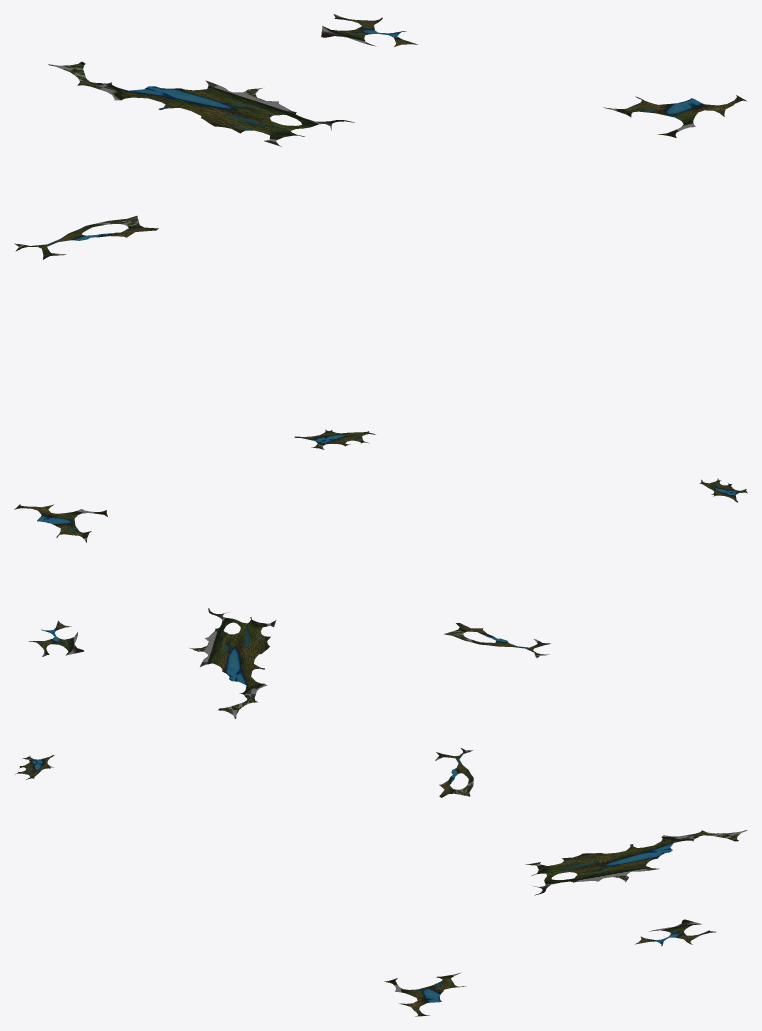
Rendered from Swamp_dizuo03water.FBX.
3 views of the same model, one above another, from view 1: azimuth 30°, elevation 25°; view 2: azimuth 150°, elevation 25°; view 3: azimuth 270°, elevation 25° (orthographic). The views are drawn at different scales.
Visible parts, largest first — view 1: Object001; view 2: Object001; view 3: Object001.
Boxes of the visible parts, <box> form: Object001: <box>14,14,746,449</box>; Object001: <box>14,478,747,718</box>; Object001: <box>15,748,747,1016</box>.
Size of the model in its own units: 443 by 0.3547 by 511.
